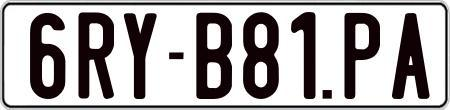1: (289, 10, 317, 98)
6: (28, 13, 66, 100)
8: (243, 12, 279, 102)
A: (390, 10, 432, 101)
B: (193, 12, 234, 99)
P: (343, 13, 382, 102)
R: (75, 12, 114, 104)
Y: (123, 11, 156, 103)
